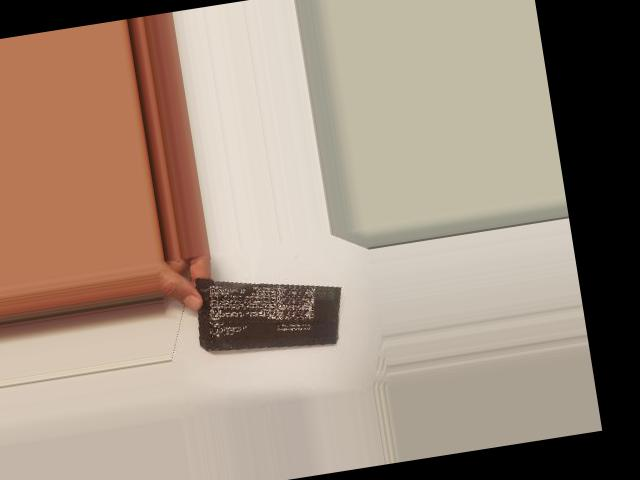chocolate: (188, 250, 353, 367)
